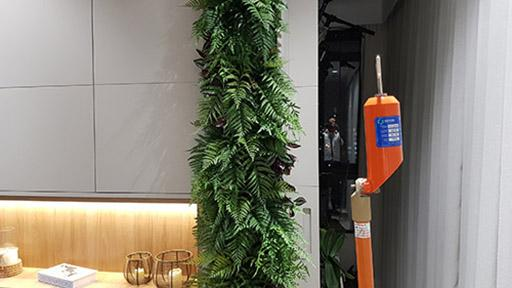Detector_Tensao_Contato: (360, 54, 405, 197)
